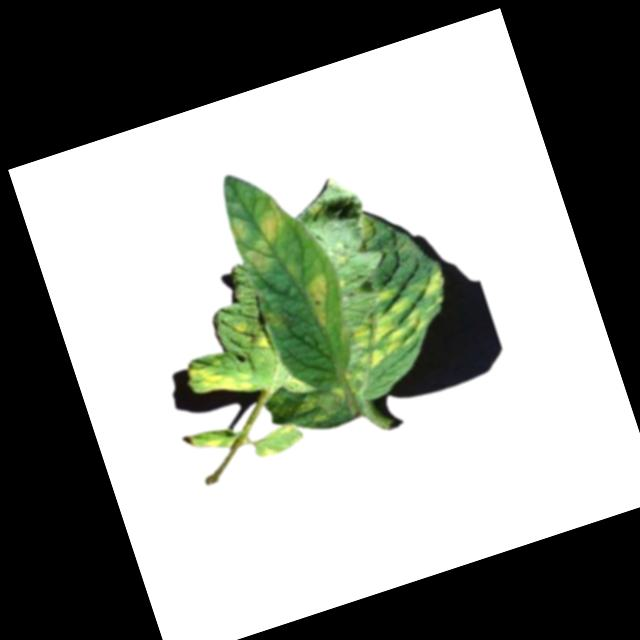Leaf_Mold: (324, 265, 472, 392), (184, 345, 253, 405), (302, 270, 337, 324), (255, 201, 291, 250), (233, 311, 272, 356), (246, 245, 274, 274)
